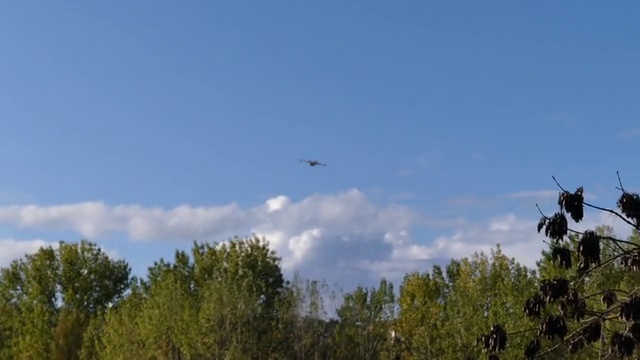plane: (300, 158, 327, 169)
